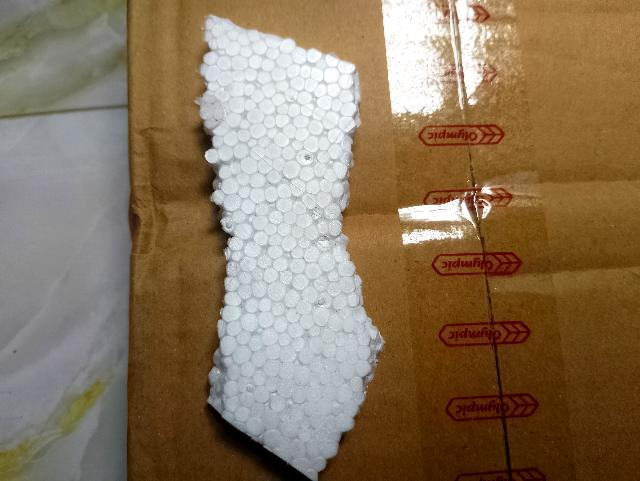cocksheet: (191, 14, 392, 469)
